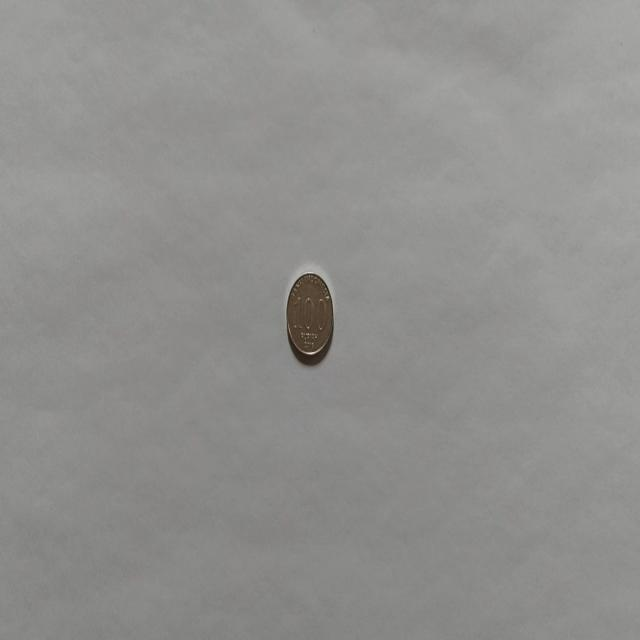seratus rupiah: (285, 270, 334, 359)
